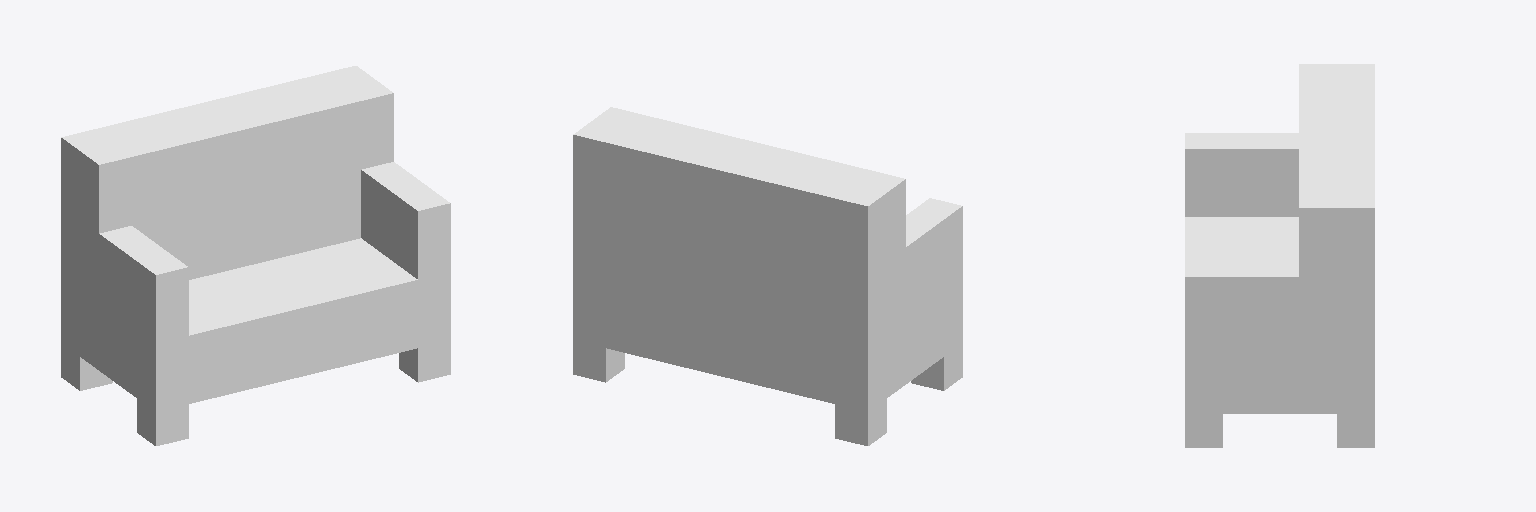
The model's file is sofa02.obj.
The picture shows the model from 3 angles: view 1: azimuth 30°, elevation 25°; view 2: azimuth 150°, elevation 25°; view 3: azimuth 270°, elevation 25°; orthographic projection.
Visible parts, largest first — view 1: object 1; view 2: object 1; view 3: object 1.
Part boxes in pixels (x1,y1,x2,y2): object 1: (61, 66, 450, 445); object 1: (573, 107, 962, 445); object 1: (1185, 64, 1374, 447).
Bounding box in the file's own units: 0.9 × 0.7 × 0.5.